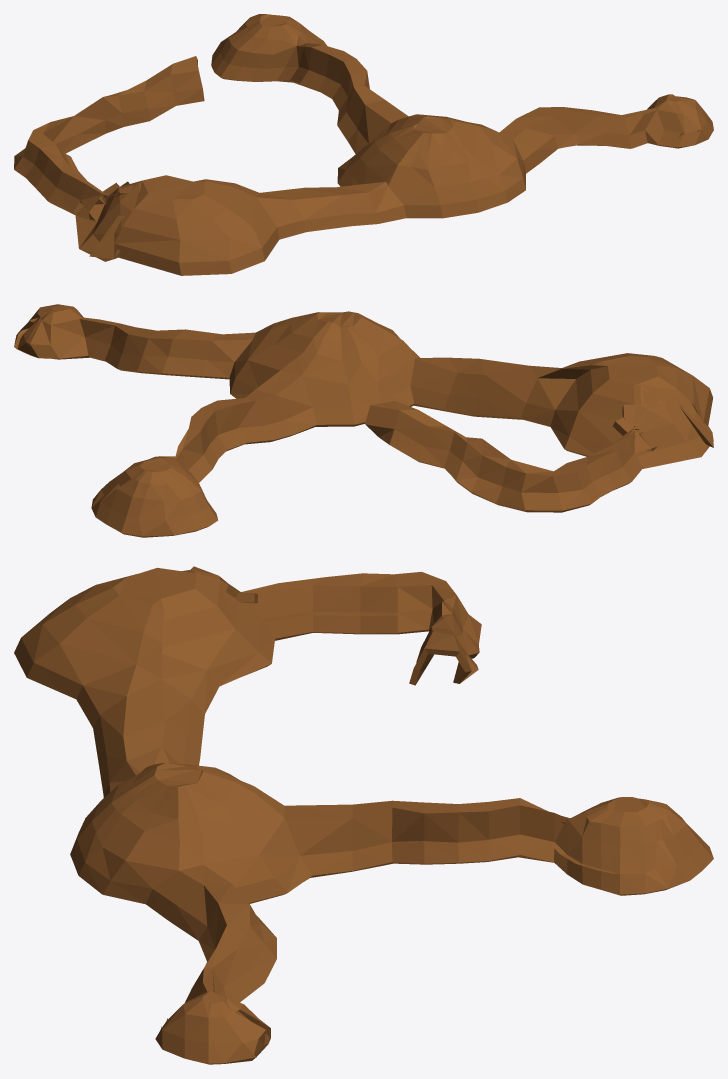
3 views of the same model, one above another, from view 1: azimuth 30°, elevation 25°; view 2: azimuth 150°, elevation 25°; view 3: azimuth 270°, elevation 25° (orthographic). The views are drawn at different scales.
Visible parts, largest first — view 1: Plane.012; view 2: Plane.012; view 3: Plane.012.
Boxes of the visible parts, x1,y1,x2,y2 form: Plane.012: (14,14,713,275); Plane.012: (14,304,713,537); Plane.012: (14,566,713,1064).
Bounding box in the file's own units: 9788 × 1536 × 6912.
